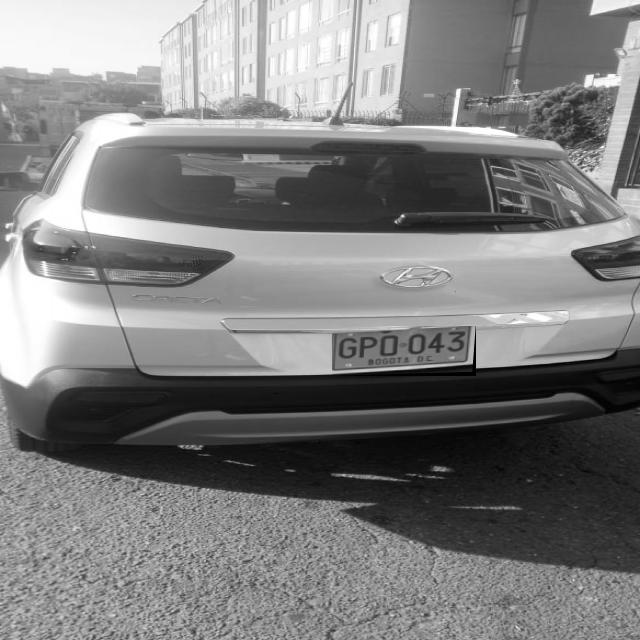plate: (332, 326, 476, 376)
